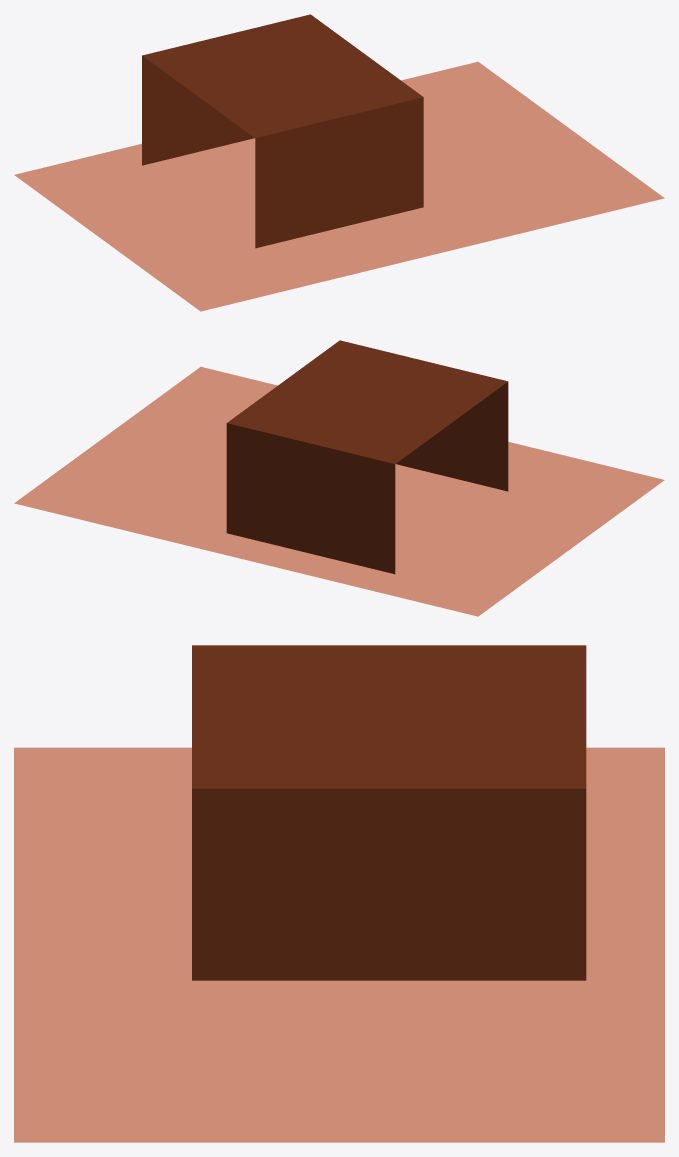
File: bartable.fbx
3 renders of one model, top to bottom at view 1: azimuth 30°, elevation 25°; view 2: azimuth 150°, elevation 25°; view 3: azimuth 270°, elevation 25°, orthographic. The views are drawn at different scales.
Visible parts, largest first — view 1: Plane.001; view 2: Plane.001; view 3: Plane.001.
Part boxes in pixels (<box>): Plane.001: <box>14,14,664,311</box>; Plane.001: <box>14,340,664,616</box>; Plane.001: <box>14,645,664,1142</box>.
Bounding box in the file's own units: 5803 × 1319 × 4043.
